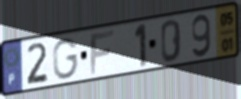0: (160, 18, 182, 65)
1: (133, 22, 149, 69)
2: (26, 41, 51, 88)
9: (190, 12, 212, 60)
F: (89, 28, 116, 77)
G: (51, 36, 80, 81)
